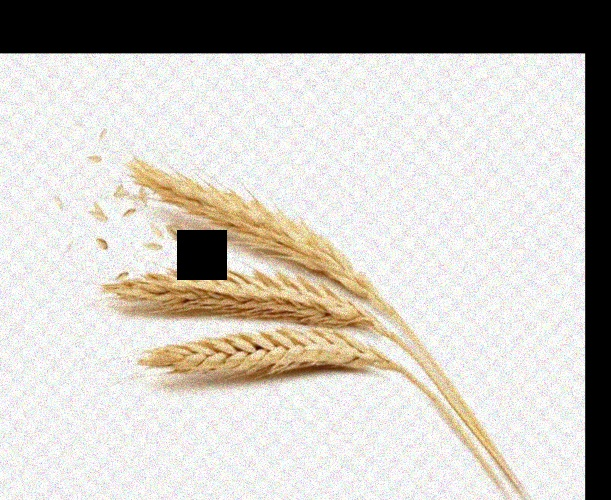wheat: (117, 155, 382, 301), (74, 257, 391, 331), (112, 325, 399, 372)
